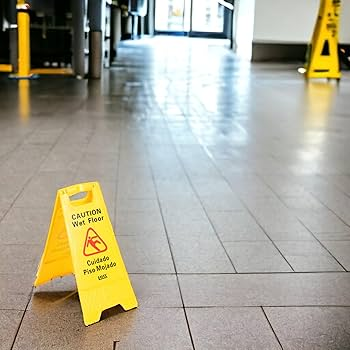wet caution sign: (30, 185, 140, 323)
